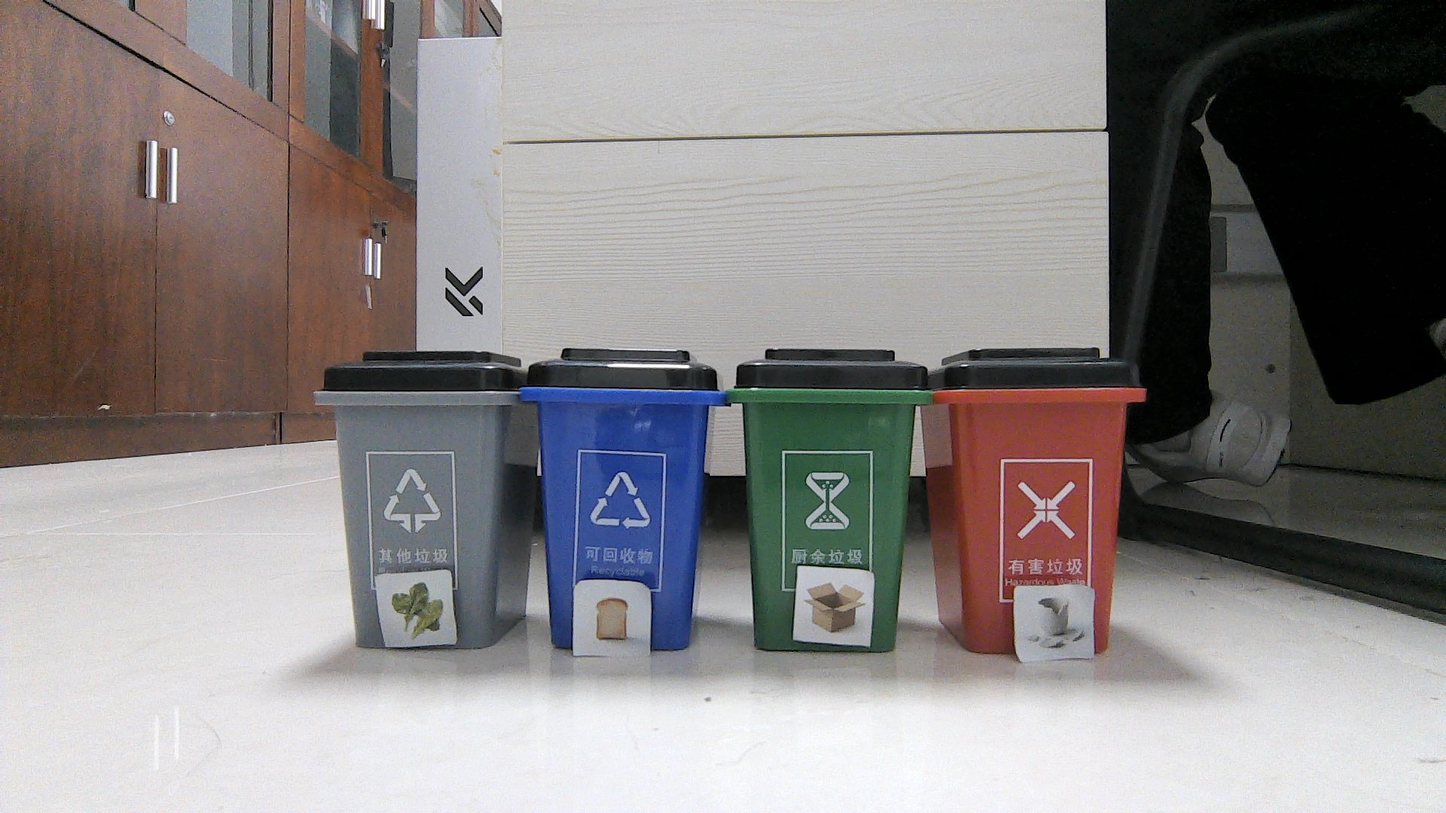food_trash: (381, 575, 453, 642), (580, 586, 640, 654)
other_trash: (1016, 590, 1096, 659)
recyclable_trash: (798, 570, 872, 643)
